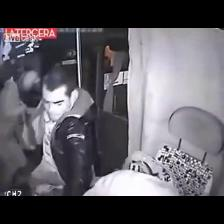person: (14, 66, 96, 195), (84, 171, 179, 195)
